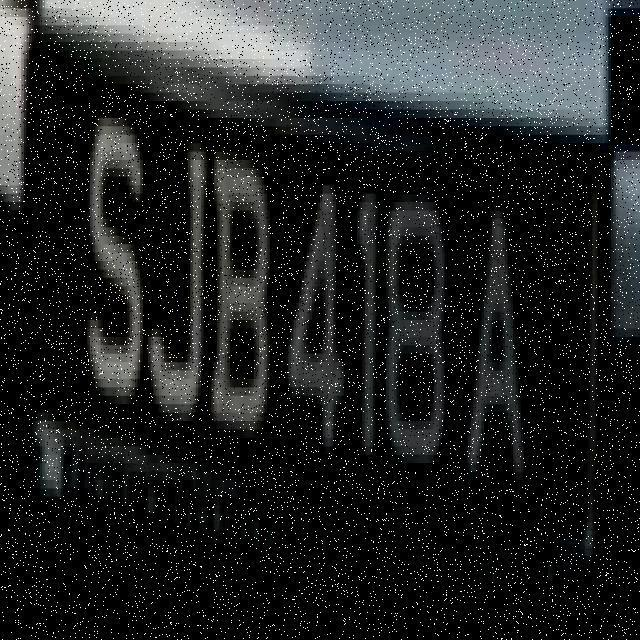LicensePlate: (16, 8, 608, 587)
